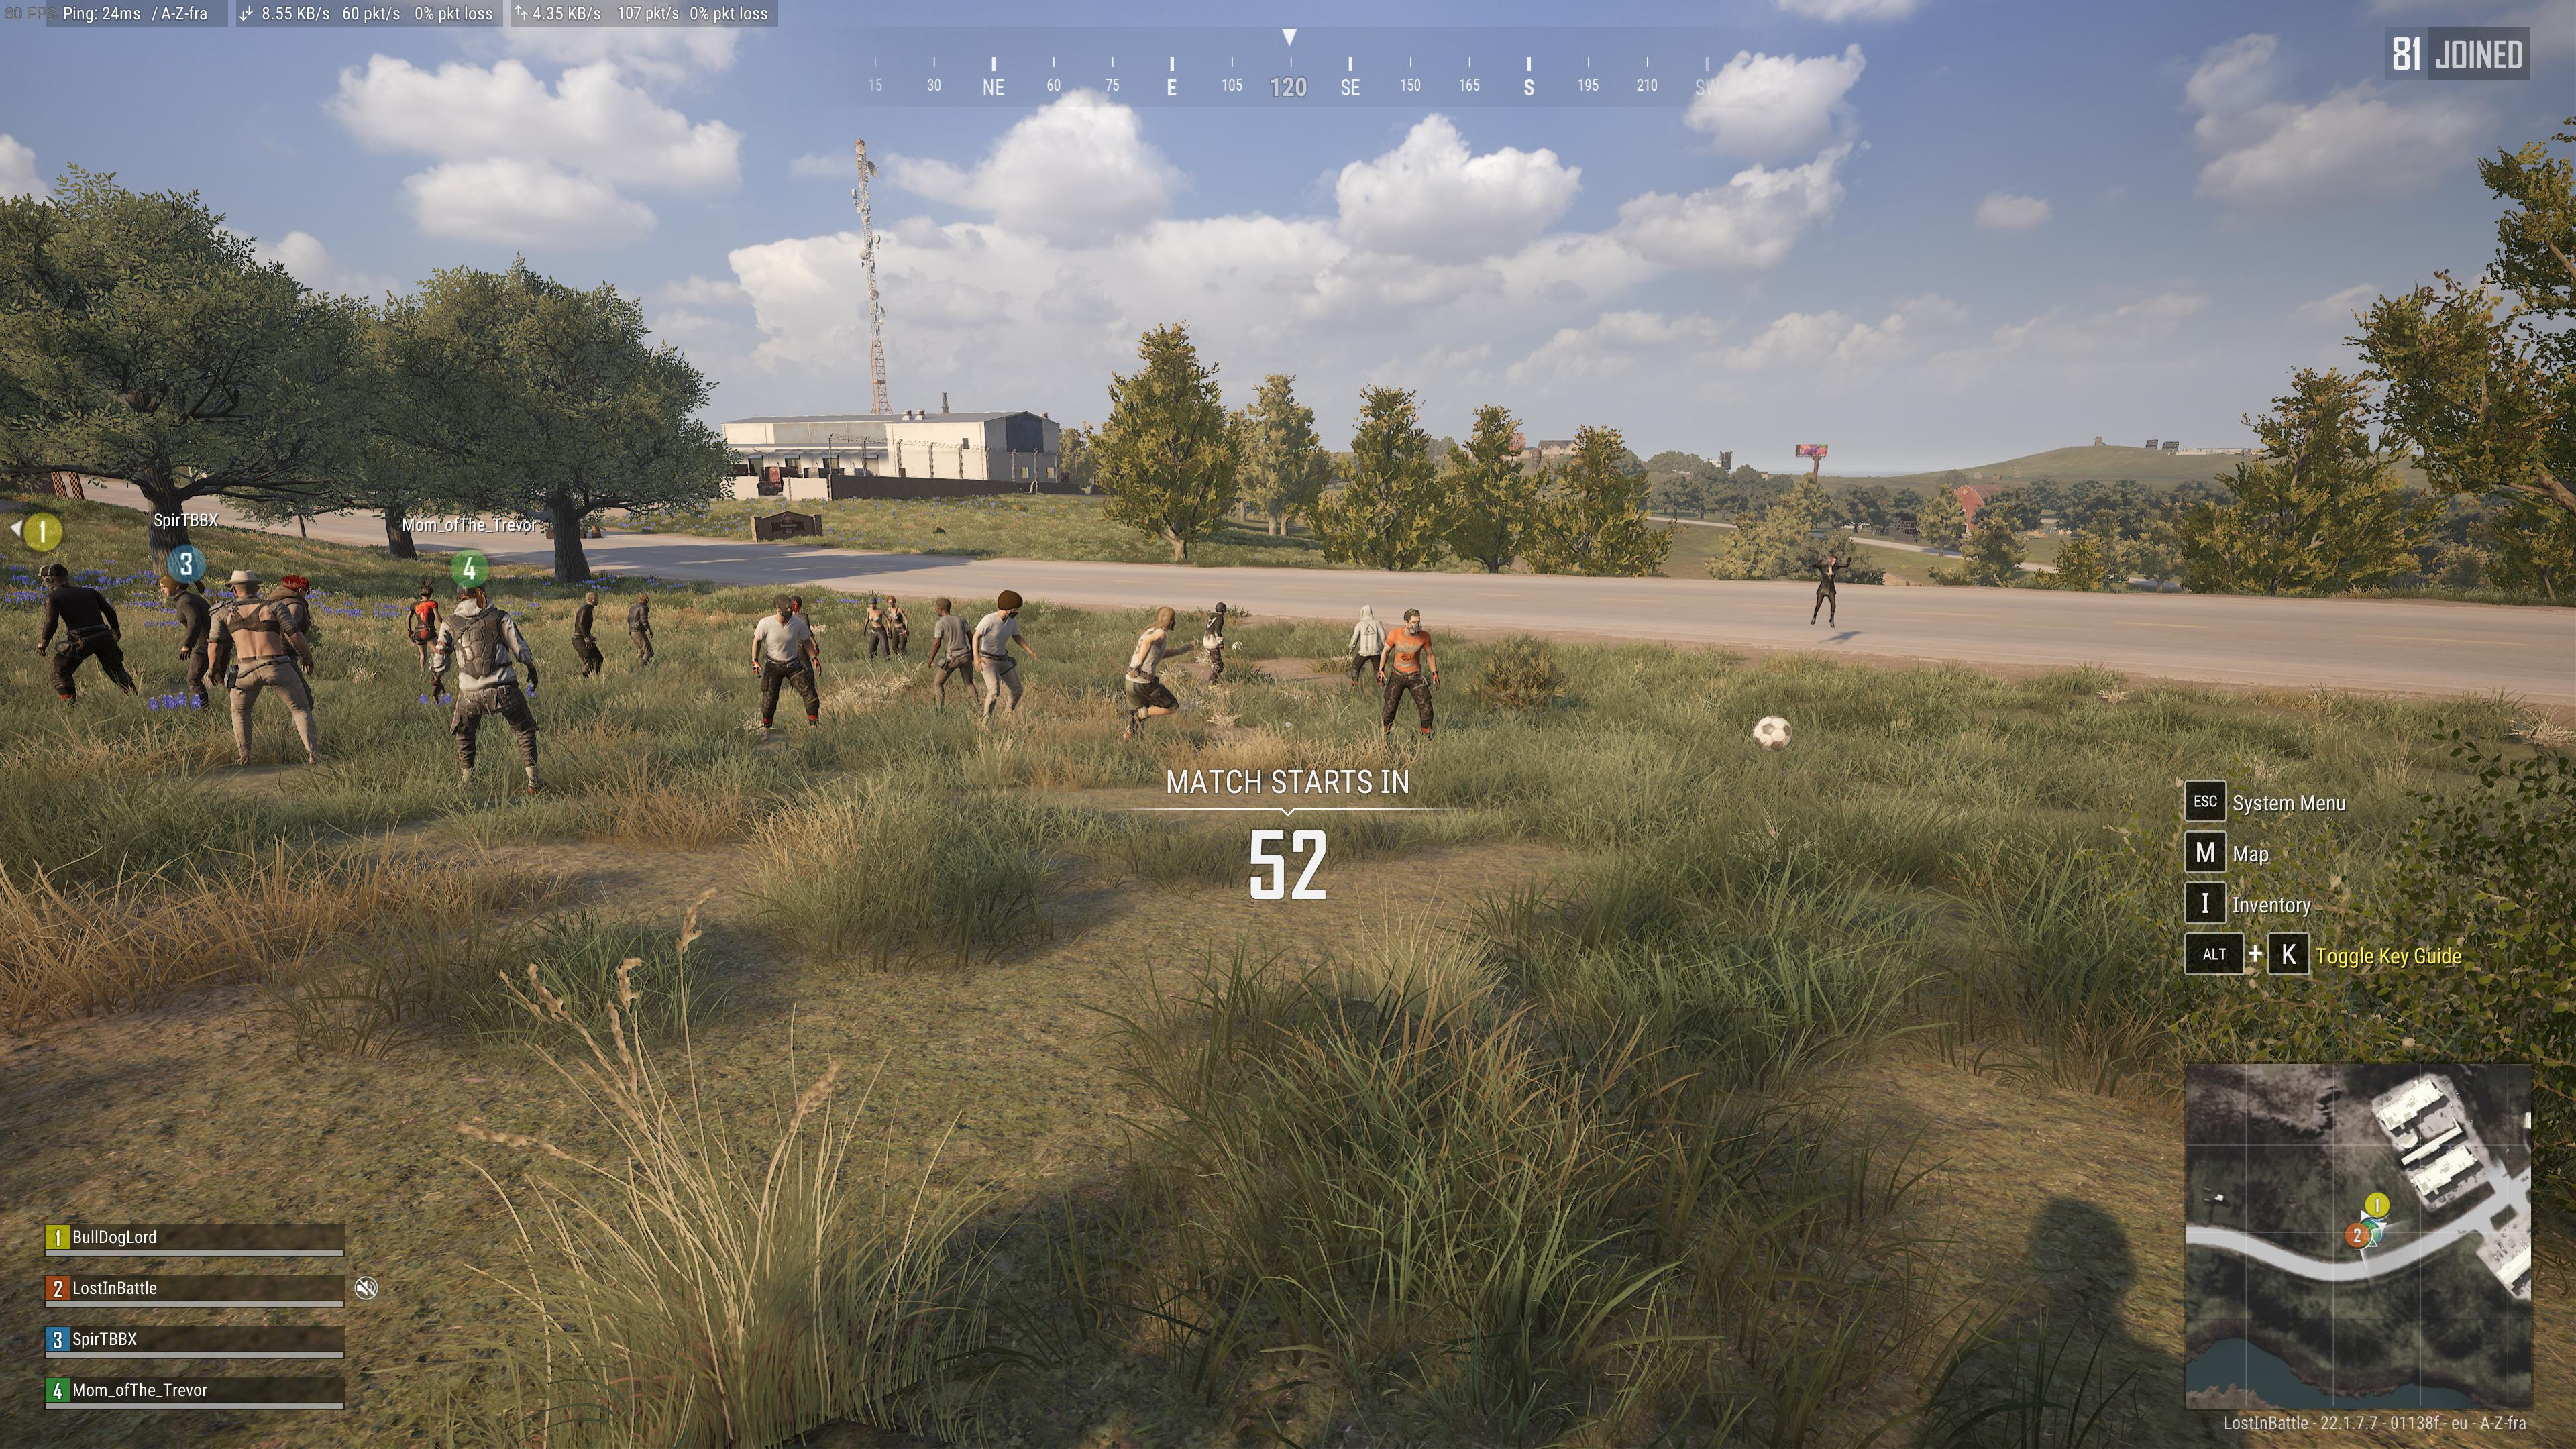enemy: (207, 570, 322, 766), (750, 594, 821, 741), (1123, 605, 1194, 743), (1376, 609, 1440, 748), (971, 589, 1037, 717), (925, 598, 980, 713), (405, 575, 444, 674), (1348, 603, 1385, 686), (1810, 556, 1851, 628), (571, 589, 603, 678), (1201, 602, 1228, 688), (626, 591, 653, 669), (862, 596, 890, 663), (886, 596, 908, 656)
enemy_head: (223, 570, 264, 602), (996, 589, 1023, 619), (280, 573, 310, 600), (1152, 605, 1175, 633), (770, 594, 793, 619), (1403, 609, 1422, 635), (932, 596, 952, 616), (416, 582, 432, 600), (582, 589, 598, 607), (791, 594, 803, 614), (1359, 605, 1373, 617), (1215, 602, 1226, 616), (637, 591, 648, 605), (867, 596, 878, 609), (1826, 556, 1836, 566), (885, 596, 895, 605)
friendly: (428, 568, 548, 794), (34, 531, 136, 702), (157, 557, 214, 709)
